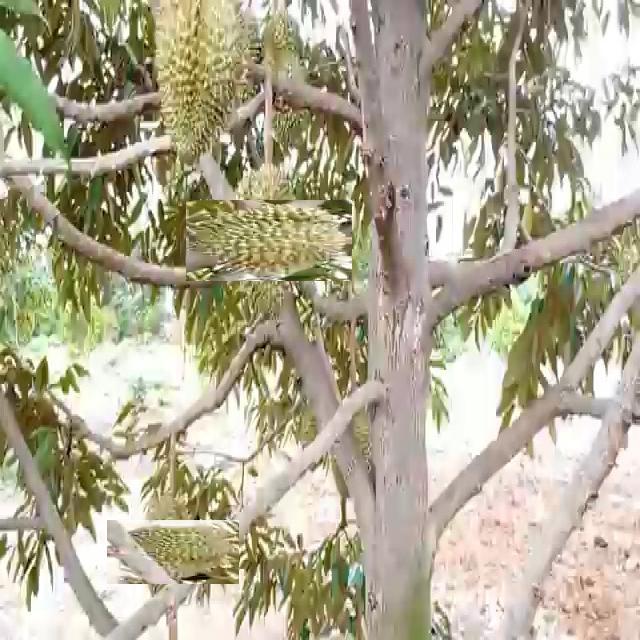durian: (153, 0, 250, 169), (207, 178, 331, 302), (123, 503, 222, 601)
